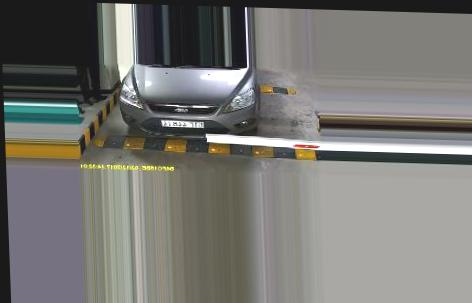License_Plate: (159, 117, 204, 132)
